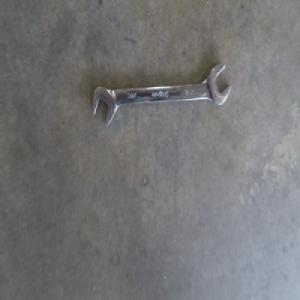Wrench: (91, 64, 232, 128)
